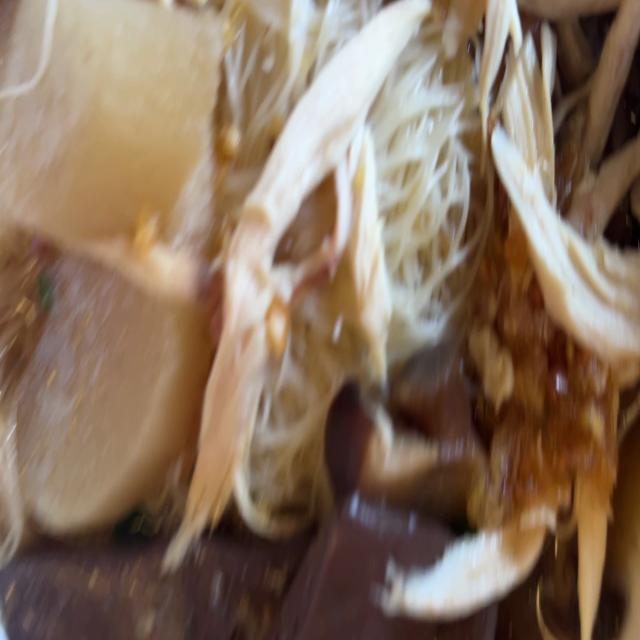noodle: (0, 553, 365, 640)
